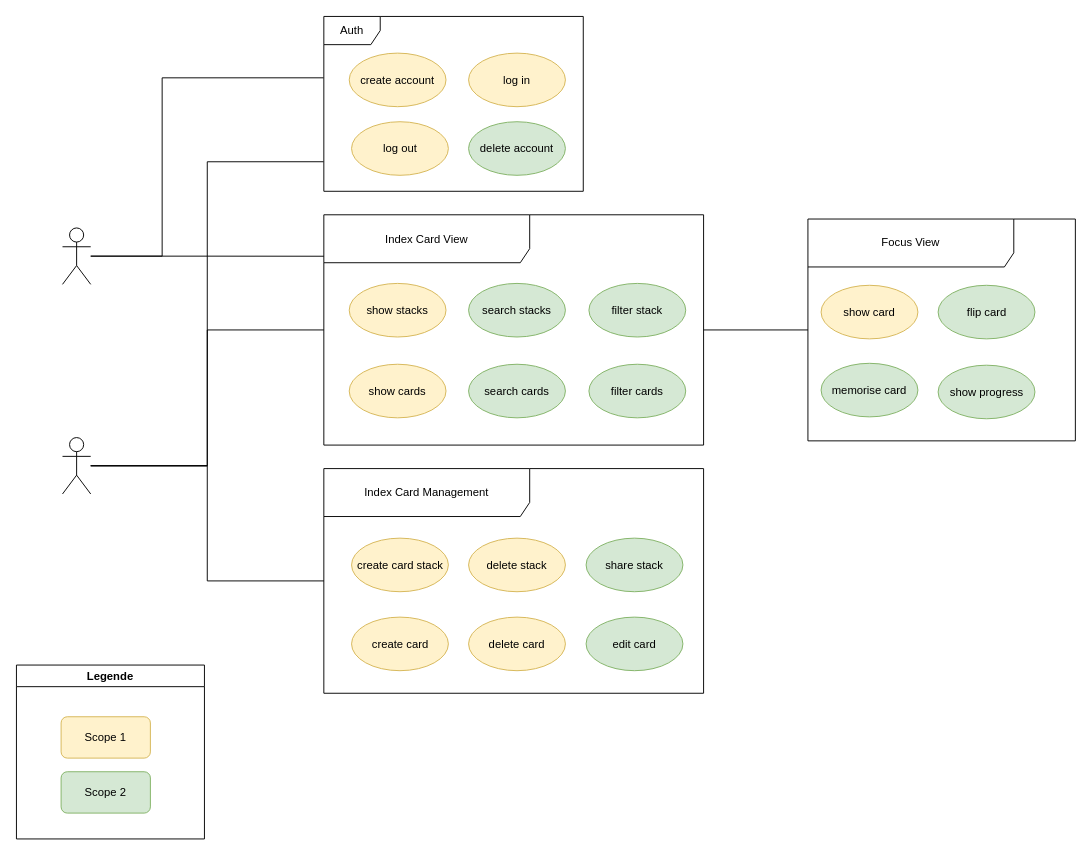
The diagram is 1092 pixels wide and 855 high, and some of its shapes have lost their labels. Each missing label, with the centre of its shape:
Registered User: (x=76, y=465)
Unregistered User: (x=76, y=255)
